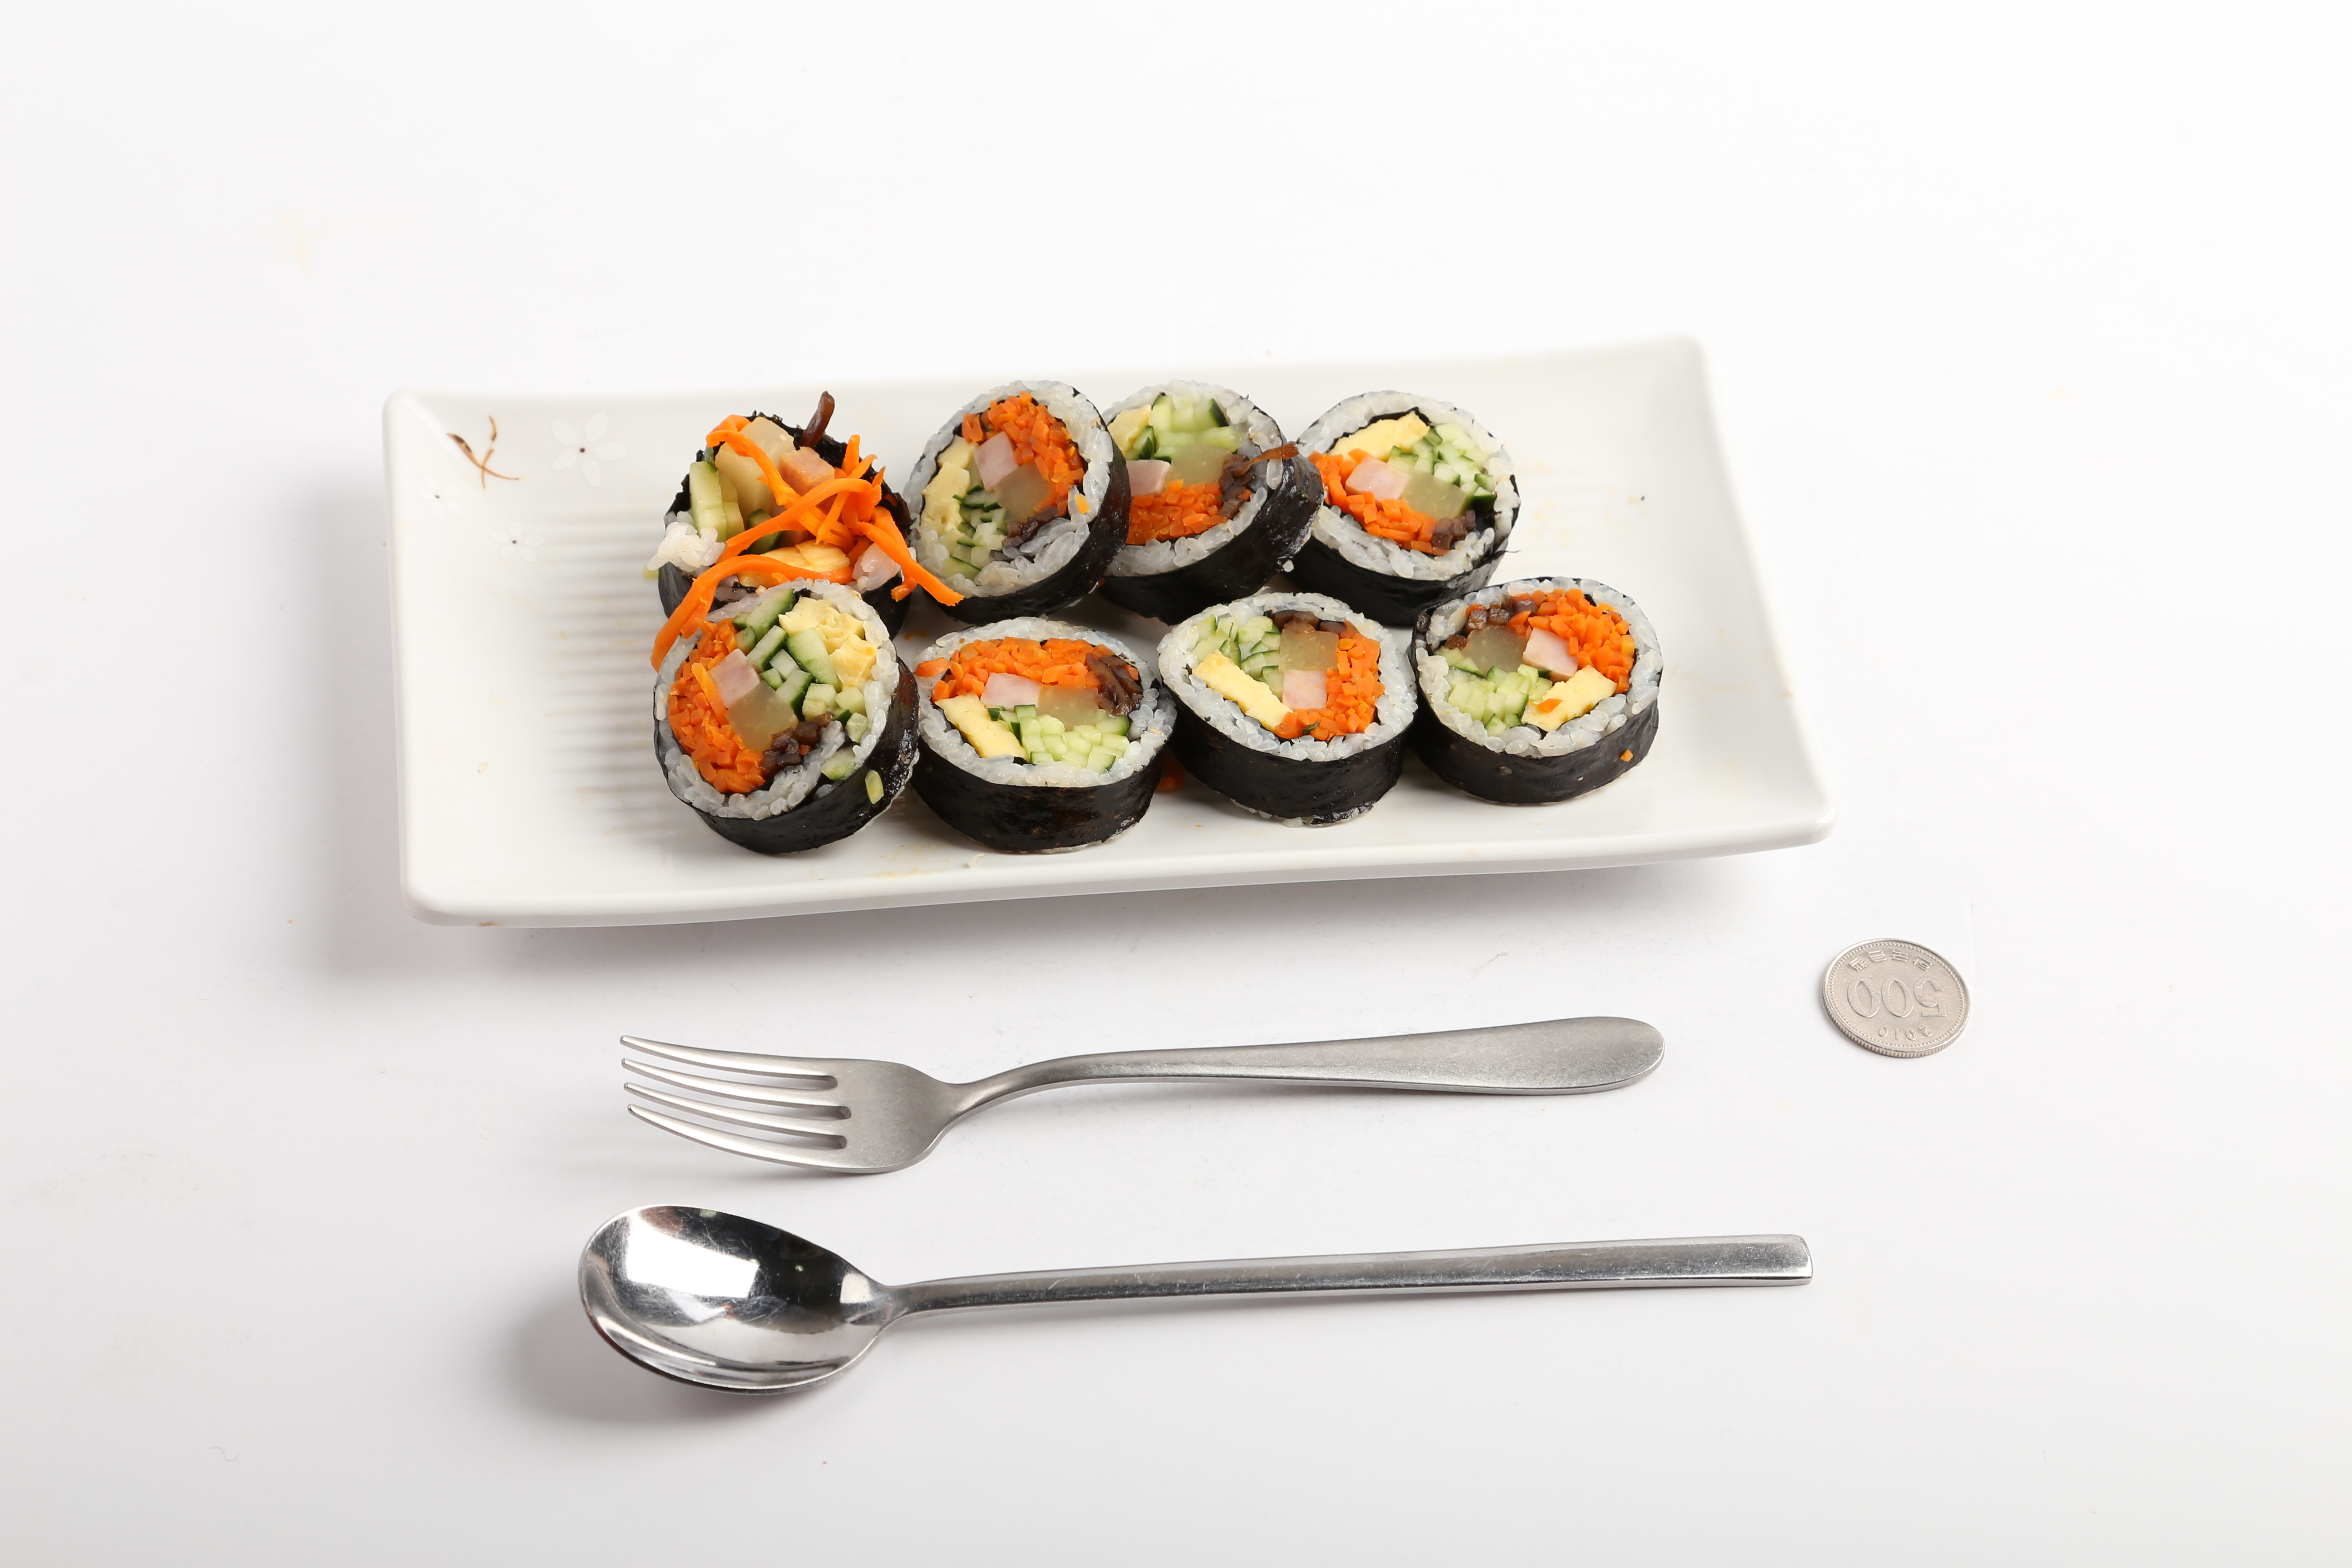dish: (374, 325, 1834, 934)
ref_coin: (1811, 933, 1974, 1066)
ref_fork: (612, 1027, 1020, 1181)
ref_spoon: (577, 1193, 973, 1398)
김밥: (644, 367, 1669, 863)
